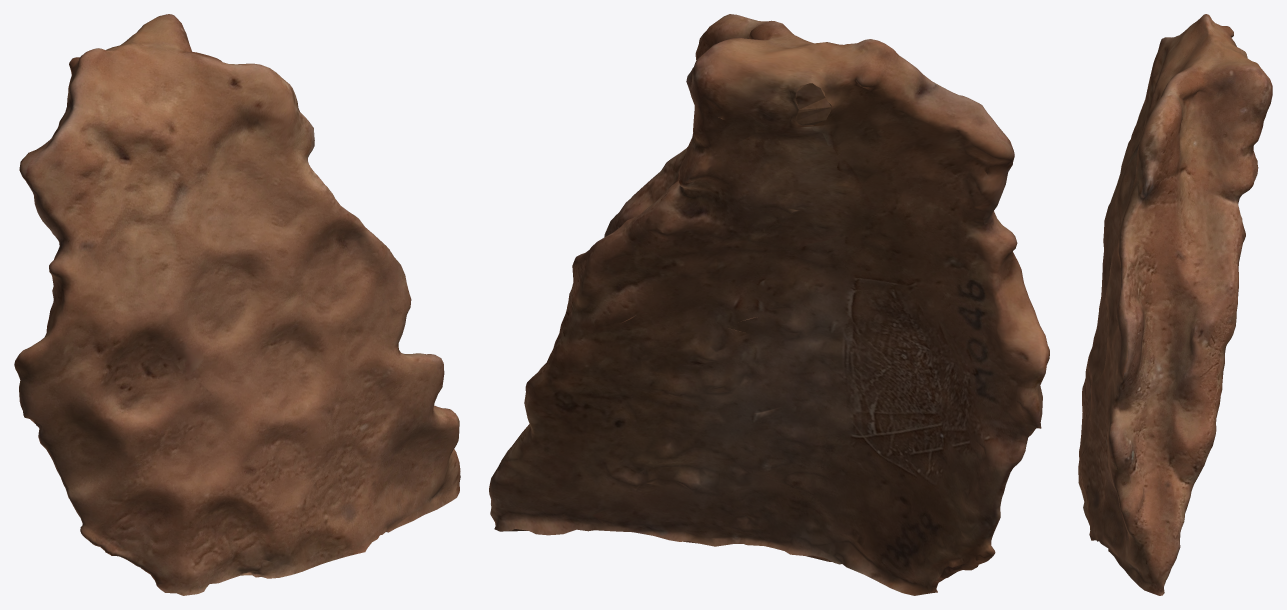
File: Kapaki4.fbx
The picture shows the model from 3 angles, left to right: view 1: azimuth 30°, elevation 25°; view 2: azimuth 150°, elevation 25°; view 3: azimuth 270°, elevation 25°; orthographic projection. The views are drawn at different scales.
Visible parts, largest first — view 1: Kapaki4-Μ046-video; view 2: Kapaki4-Μ046-video; view 3: Kapaki4-Μ046-video.
Boxes of the visible parts, x1,y1,x2,y2 form: Kapaki4-Μ046-video: (14, 14, 460, 595); Kapaki4-Μ046-video: (489, 14, 1049, 595); Kapaki4-Μ046-video: (1078, 14, 1272, 595).
Bounding box in the file's own units: 8.63 × 3.71 × 9.24.
1 material, 1 textured.
